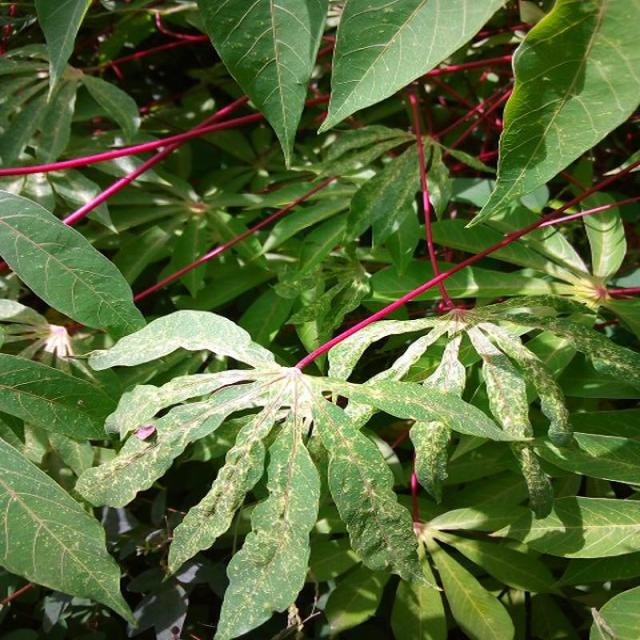cassava leaf: (73, 303, 540, 638), (463, 0, 638, 229), (0, 436, 138, 630), (315, 0, 506, 135), (195, 0, 329, 170), (0, 188, 146, 338)
